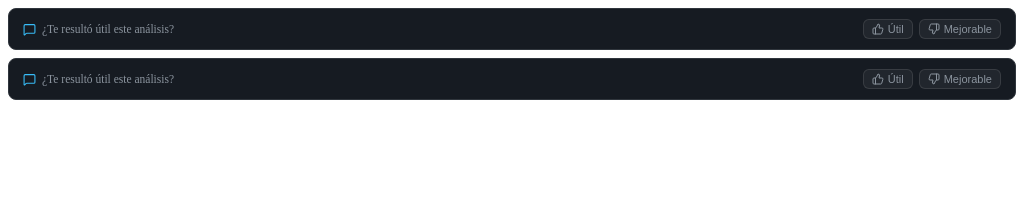
Test: UserFeedbackWidget › clicking positive rating calls submitUserFeedback and opens details form
Click the 2nd button "Útil": (888,79) [863, 69, 913, 89]
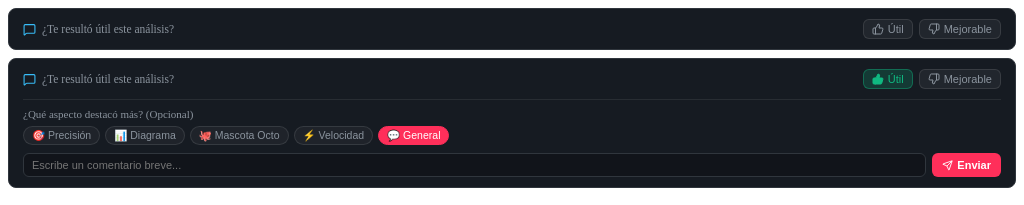
Result: the text "¿Qué aspecto destacó más?" is shown at [23, 108, 193, 120]
Result: the field with placeholder "Escribe un comentario breve..." is shown at [23, 153, 926, 177]
